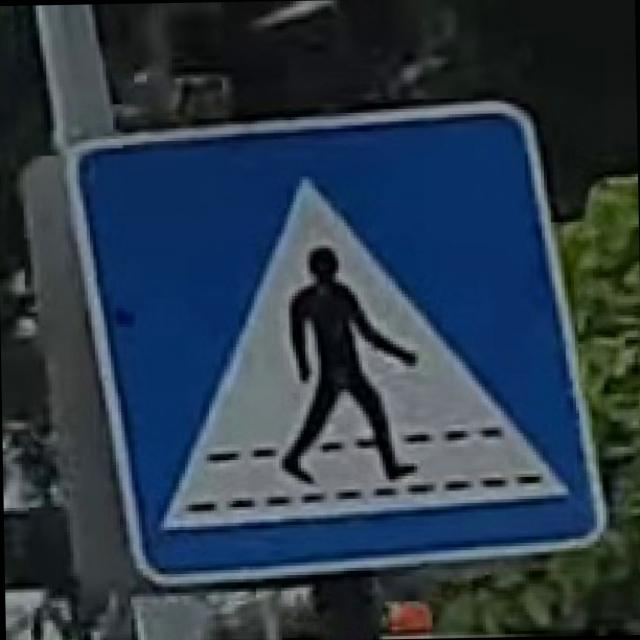zebracrossing_sign: (53, 92, 610, 588)
